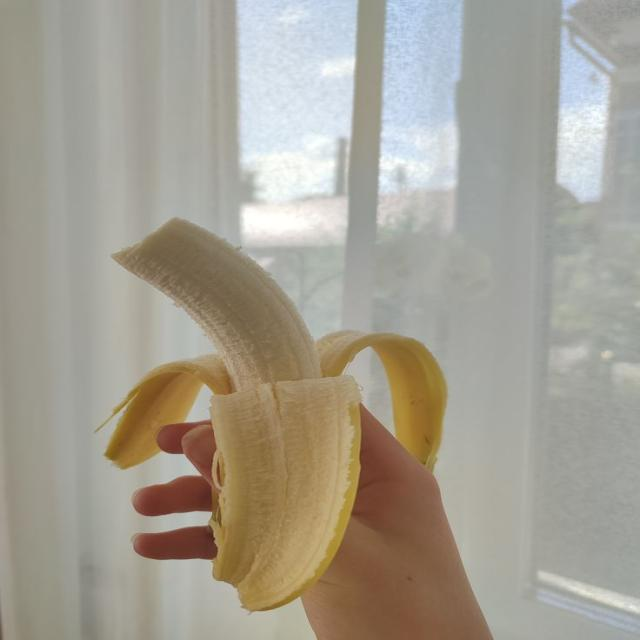banana: (106, 219, 446, 610)
